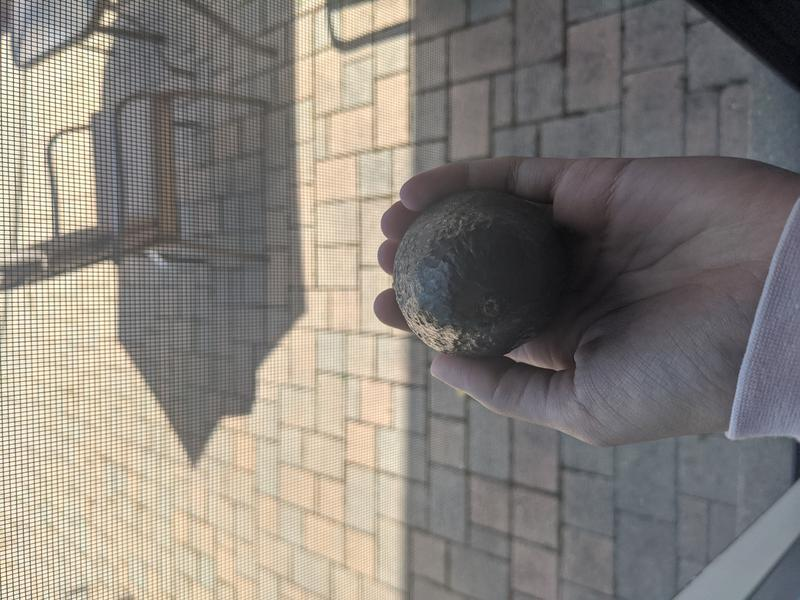avocado: (389, 187, 564, 359)
